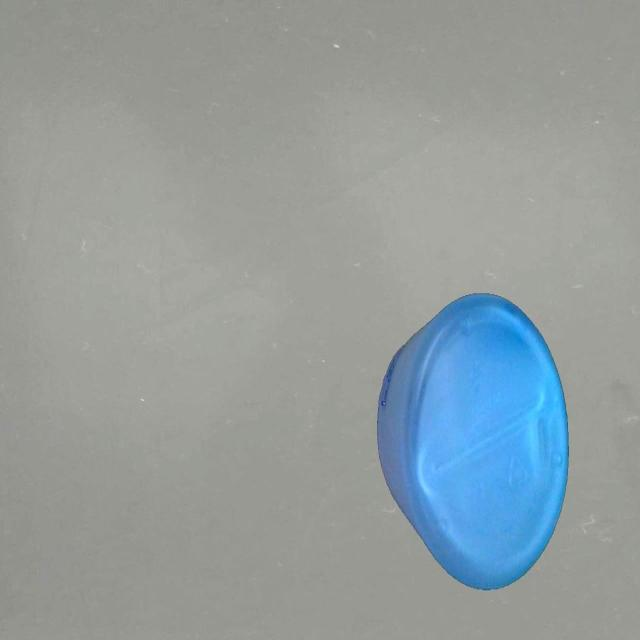bottle: (376, 288, 570, 596)
